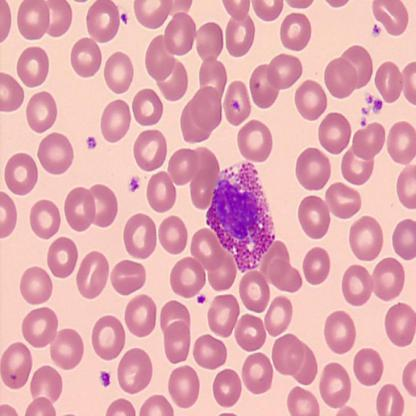Eosinophil: (206, 159, 276, 271)
